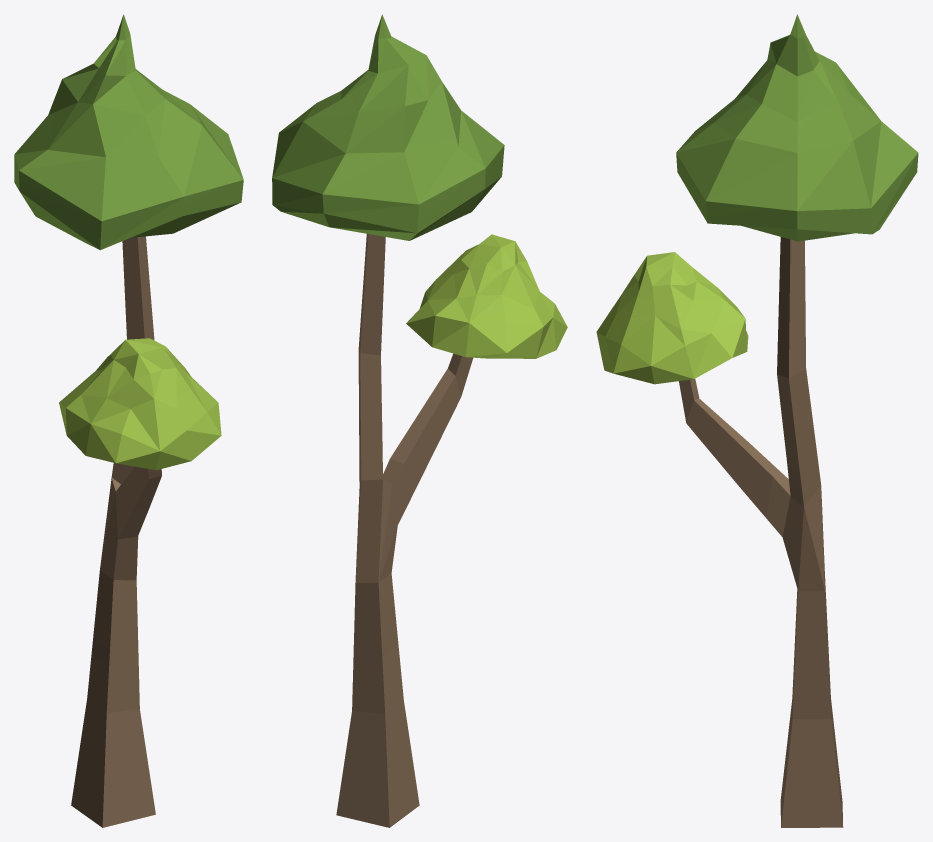
Rendered from Tree_2.gltf.
3 renders of one model, left to right at view 1: azimuth 30°, elevation 25°; view 2: azimuth 150°, elevation 25°; view 3: azimuth 270°, elevation 25°, orthographic.
Parts seen in each view (by area): view 1: Tree_2; view 2: Tree_2; view 3: Tree_2.
Boxes of the visible parts, x1=… form: Tree_2: x1=14, y1=14, x2=243, y2=827; Tree_2: x1=272, y1=14, x2=567, y2=827; Tree_2: x1=596, y1=14, x2=918, y2=827.
Bounding box in the file's own units: 0.5522 × 1.96 × 0.7136.
Materials: 1 (1 with a texture image).
